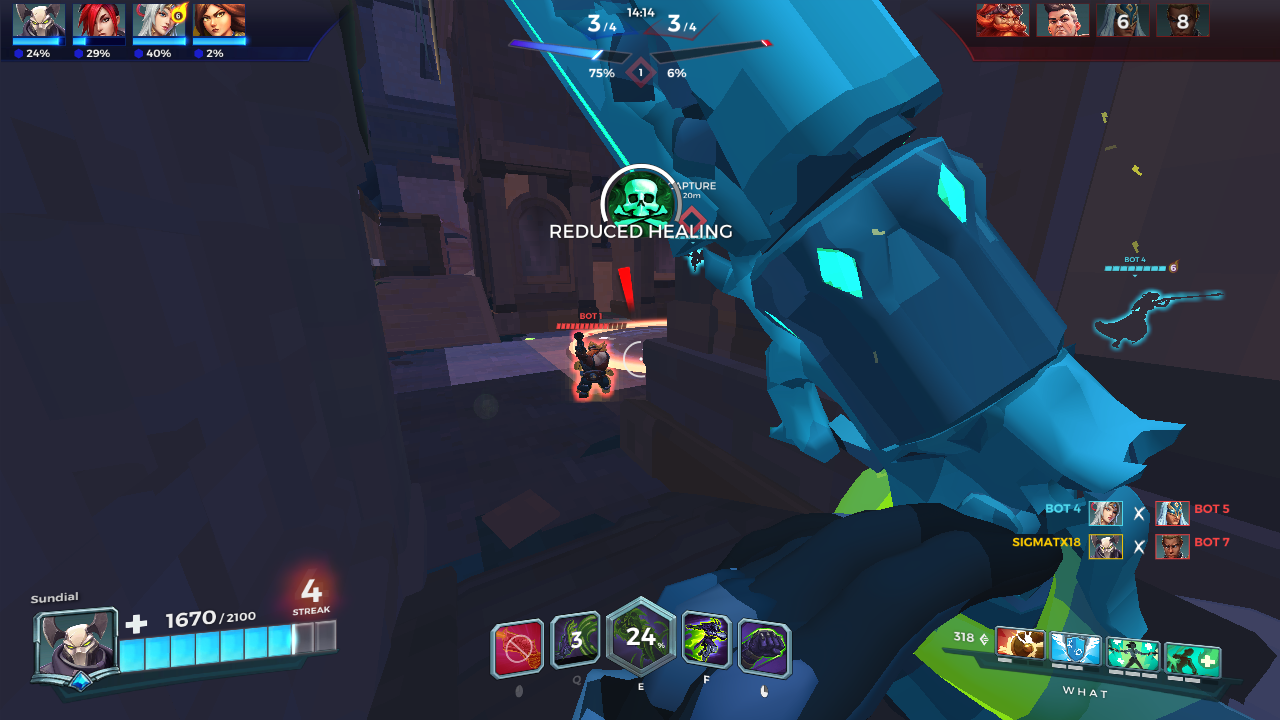model: (572, 337, 616, 398)
